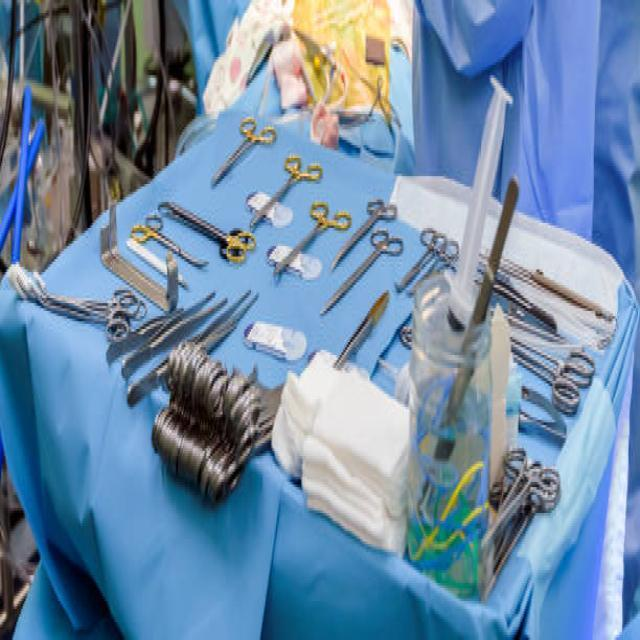tools_table: (0, 98, 640, 640)
